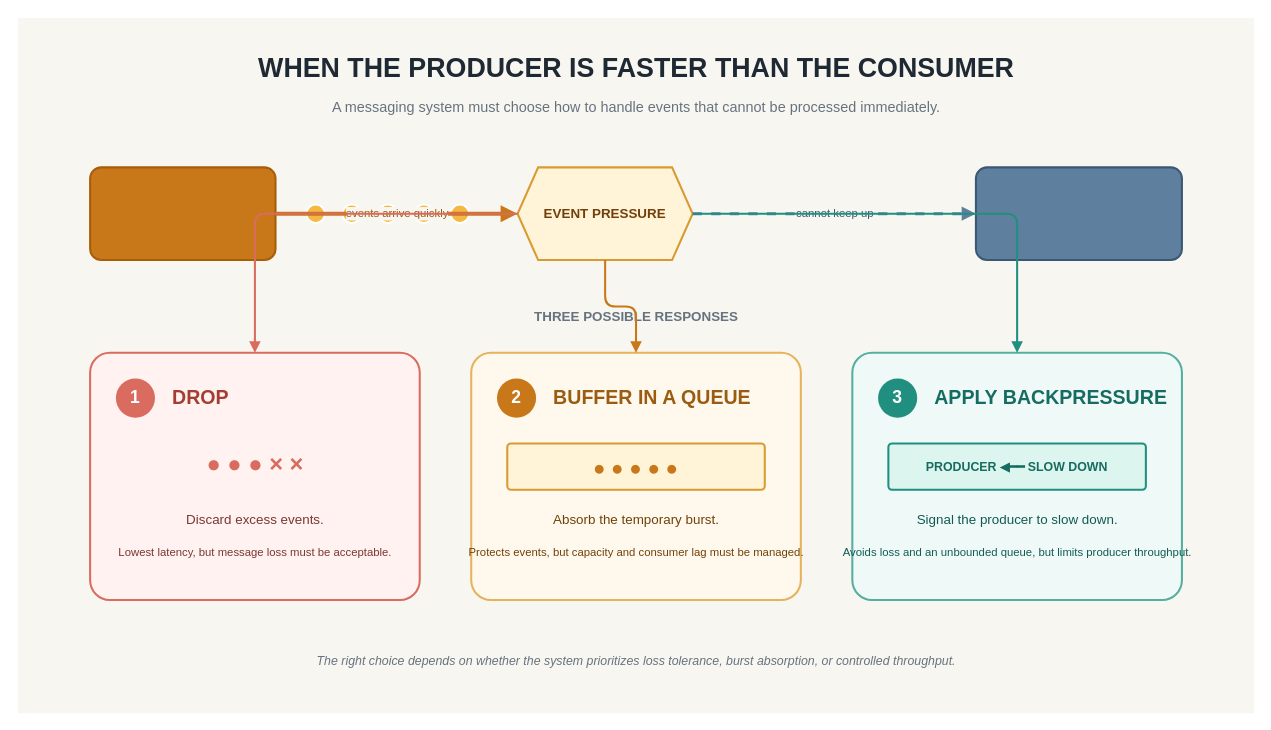
Some shapes in this 1271 by 730 pixel diagram are drawn without their labels. The shapes that lost their labels are listed below. From the top down, each one's centre as x and y in pixels, then its label:
At point 182,213: "FAST PRODUCER many events / second".
At point 1078,213: "SLOW CONSUMER limited processing rate".
